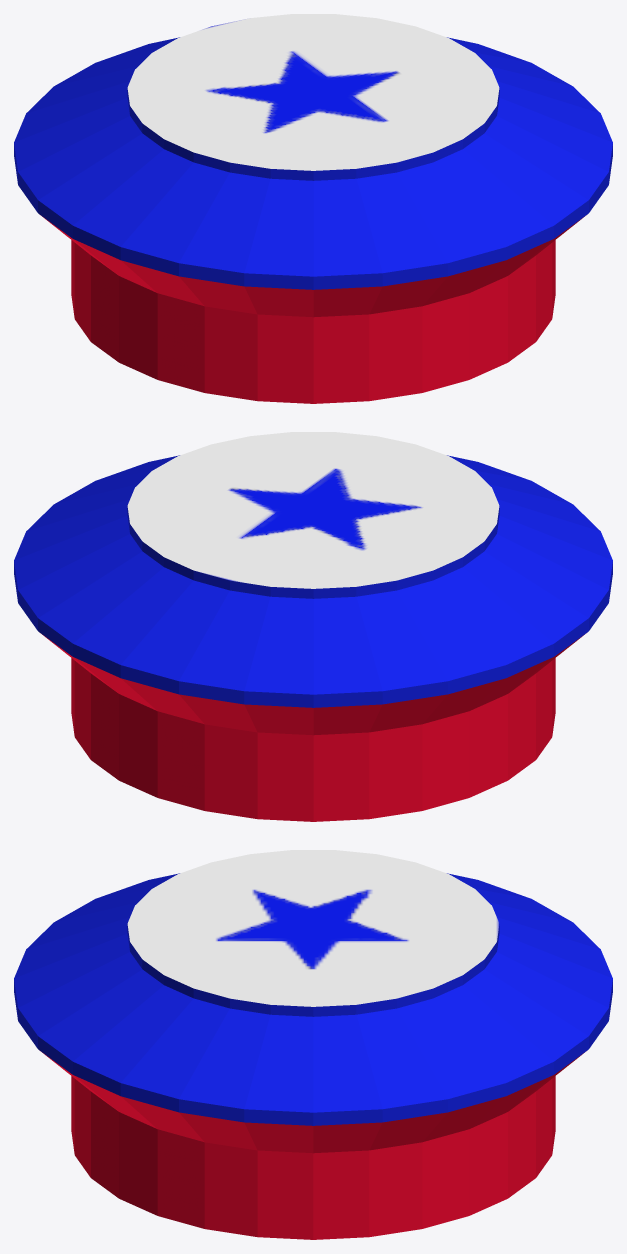
The model's file is bumper.FBX.
3 renders of one model, top to bottom at view 1: azimuth 30°, elevation 25°; view 2: azimuth 150°, elevation 25°; view 3: azimuth 270°, elevation 25°, orthographic.
Visible parts, largest first — view 1: Cylinder001; view 2: Cylinder001; view 3: Cylinder001.
Boxes of the visible parts, box(x1,y1,x2,y2) form: Cylinder001: box(14, 14, 612, 403); Cylinder001: box(14, 432, 612, 821); Cylinder001: box(14, 850, 612, 1239).
Bounding box in the file's own units: 44.48 × 17.18 × 44.56.
1 material, 1 textured.
